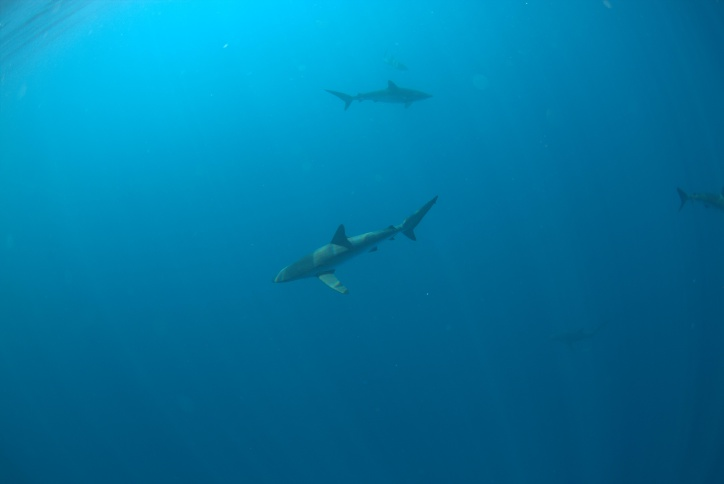Sedoso: (267, 190, 439, 300)
